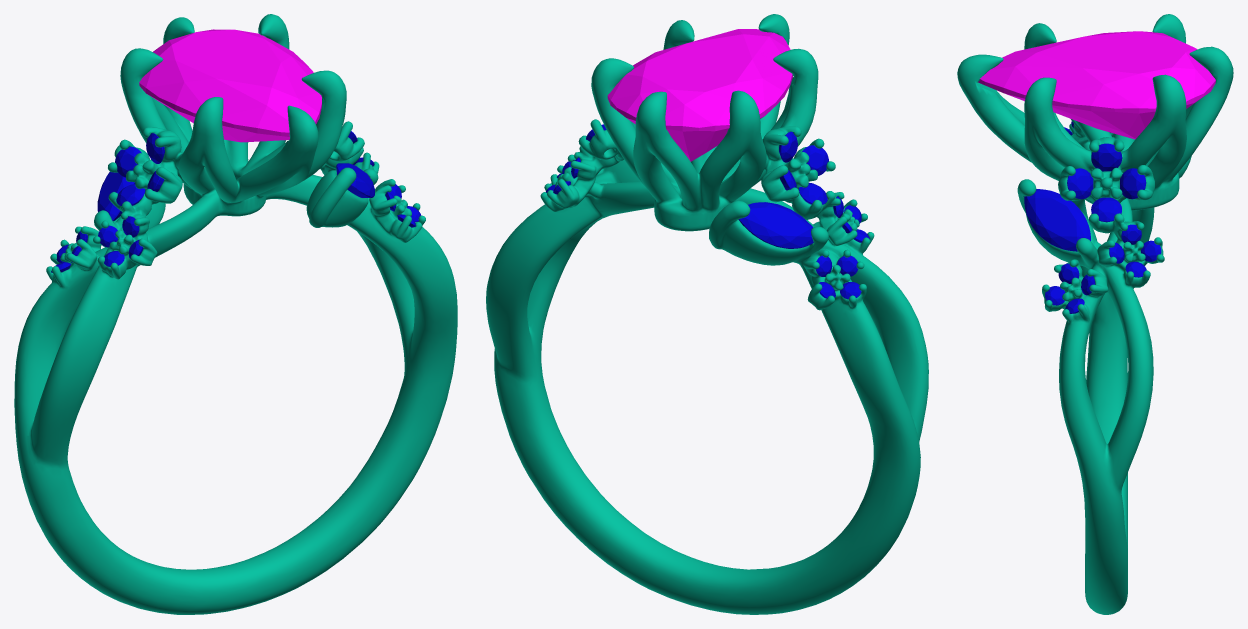
The model's file is BE1D9683_PE_200ct_RENDER.glb.
The picture shows the model from 3 angles, left to right: view 1: azimuth 30°, elevation 25°; view 2: azimuth 150°, elevation 25°; view 3: azimuth 270°, elevation 25°; orthographic projection.
Parts seen in each view (by area): view 1: Metal 01, CS_Diamond_Pear, Diamond_Marquise_side, Diamond_Marquise_side.001; view 2: Metal 01, CS_Diamond_Pear, Diamond_Marquise_side; view 3: Metal 01, CS_Diamond_Pear, Diamond_Marquise_side.001, Diamond_Round_side.013, Diamond_Round_side.012, Diamond_Round_side.014, Diamond_Round_side.015.
Boxes of the visible parts, x1,y1,x2,y2 form: Metal 01: [14, 14, 457, 614]; CS_Diamond_Pear: [139, 29, 321, 142]; Diamond_Marquise_side: [97, 172, 135, 220]; Diamond_Marquise_side.001: [336, 163, 374, 197]; Metal 01: [486, 14, 928, 614]; CS_Diamond_Pear: [607, 29, 792, 161]; Diamond_Marquise_side: [738, 202, 813, 248]; Metal 01: [957, 14, 1233, 614]; CS_Diamond_Pear: [978, 31, 1215, 139]; Diamond_Marquise_side.001: [1024, 189, 1090, 251]; Diamond_Round_side.013: [1091, 143, 1122, 171]; Diamond_Round_side.012: [1067, 168, 1093, 199]; Diamond_Round_side.014: [1120, 168, 1146, 199]; Diamond_Round_side.015: [1091, 197, 1121, 222].
Size of the model in its own units: 20.36 by 25.23 by 11.57.
